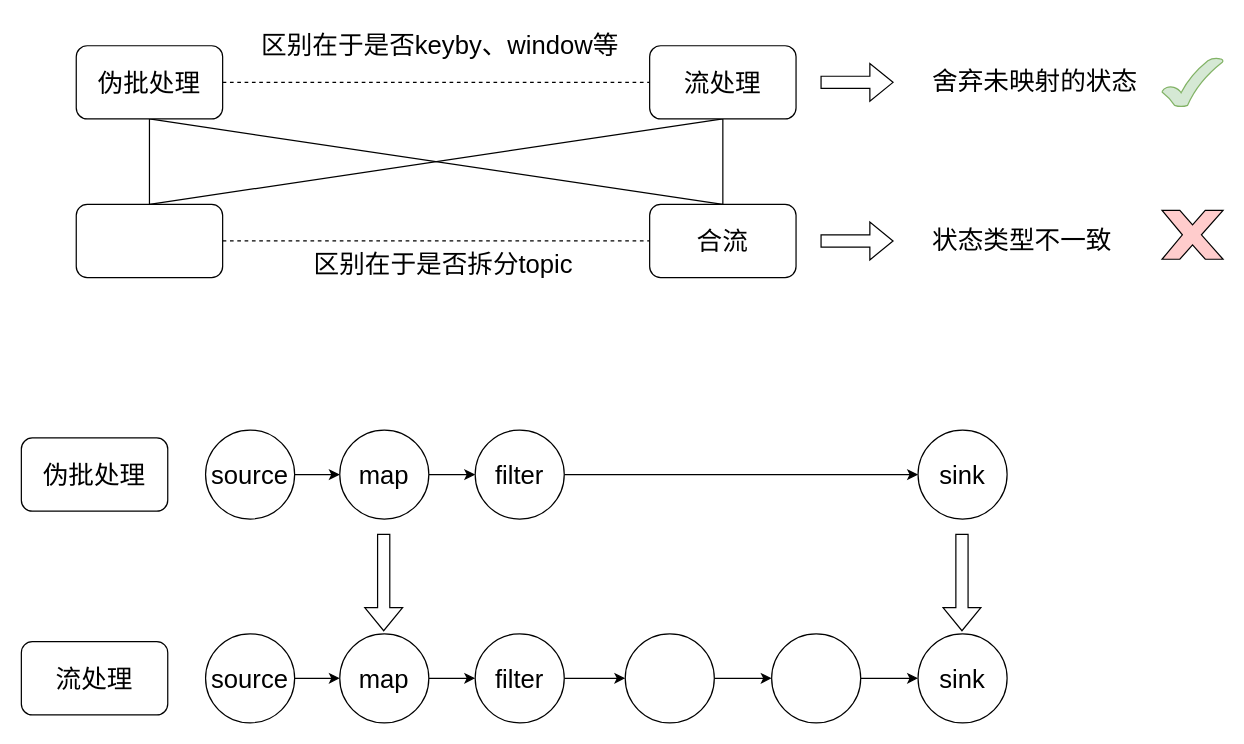
This 1244x744 diagram has some shape labels left out. The shapes that lost their labels are listed below. From the top down, each one's centre as x and y in pixels, then its label:
(149,240): 分流
(669,678): keyBy
(815,678): window
